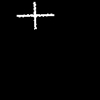single_crochet: (17, 2, 53, 28)
